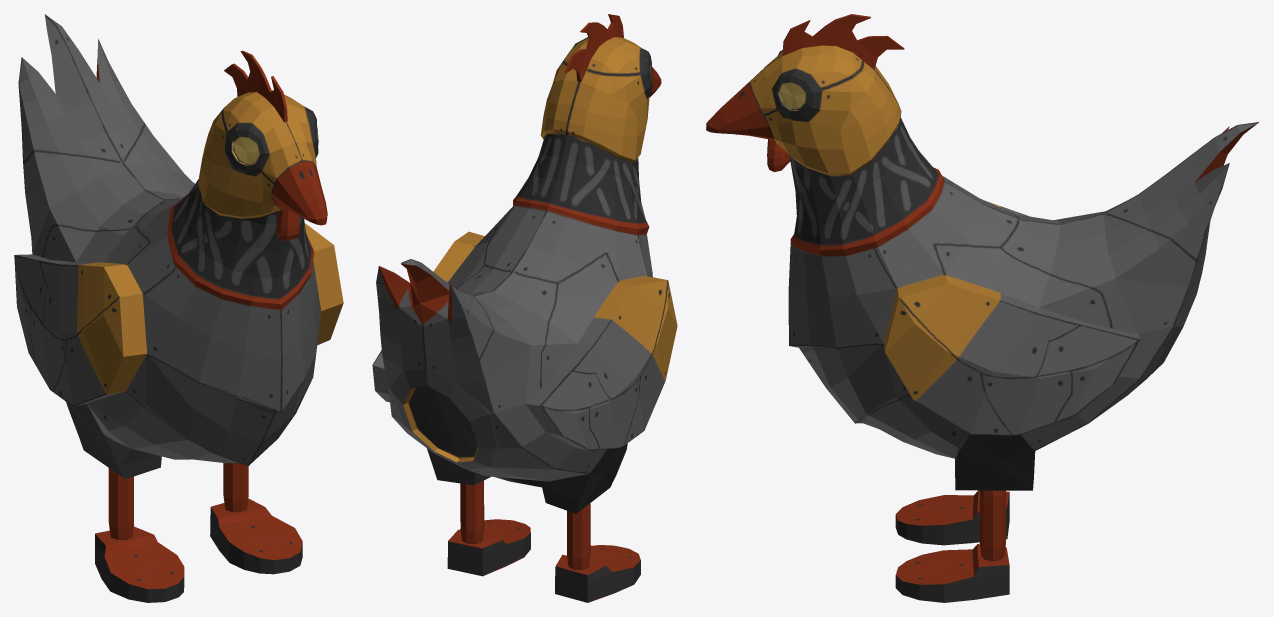
File: meca_chicken.fbx
3 renders of one model, left to right at view 1: azimuth 30°, elevation 25°; view 2: azimuth 150°, elevation 25°; view 3: azimuth 270°, elevation 25°, orthographic. The views are drawn at different scales.
Visible parts, largest first — view 1: Plane; view 2: Plane; view 3: Plane.
Boxes of the visible parts, left/top/right/bottom form: Plane: left=14, top=14, right=343, bottom=602; Plane: left=372, top=14, right=677, bottom=602; Plane: left=706, top=14, right=1258, bottom=602.
Size of the model in its own units: 45.84 by 101 by 92.72.
